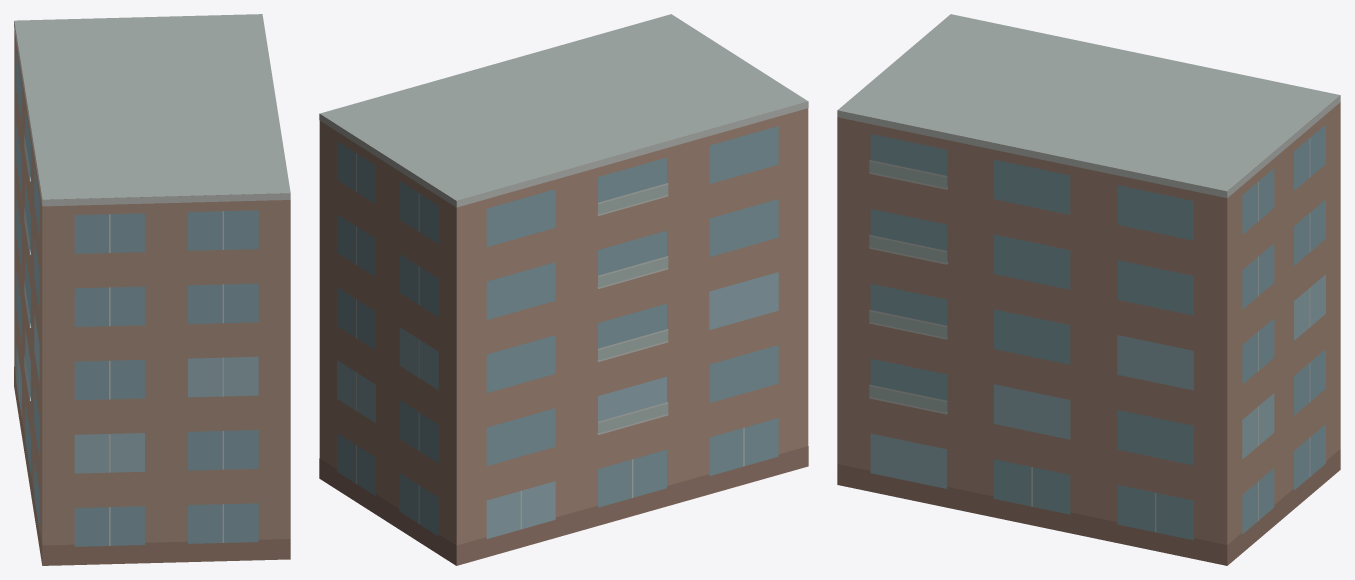
Rendered from survey-upis-32885365.glb.
3 views of the same model, side by side, from view 1: azimuth 30°, elevation 25°; view 2: azimuth 150°, elevation 25°; view 3: azimuth 270°, elevation 25° (orthographic). The views are drawn at different scales.
Parts seen in each view (by area): view 1: survey-upis-32885365.tmp; view 2: survey-upis-32885365.tmp; view 3: survey-upis-32885365.tmp.
Part boxes in pixels (x1,y1,x2,y2): survey-upis-32885365.tmp: (14, 14, 290, 565); survey-upis-32885365.tmp: (319, 14, 808, 565); survey-upis-32885365.tmp: (837, 14, 1340, 565).
Size of the model in its own units: 13.46 by 13.25 by 16.14.
